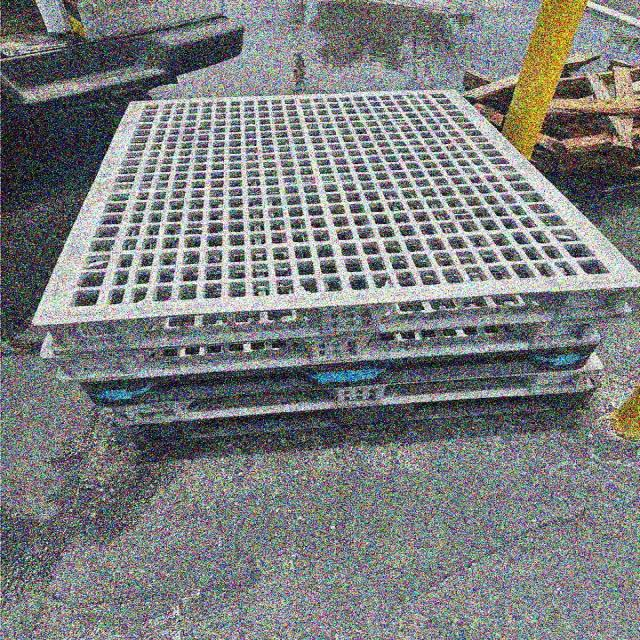non-igps: (0, 80, 640, 362), (90, 345, 612, 435), (32, 314, 613, 394), (116, 399, 590, 470), (117, 382, 600, 450)
